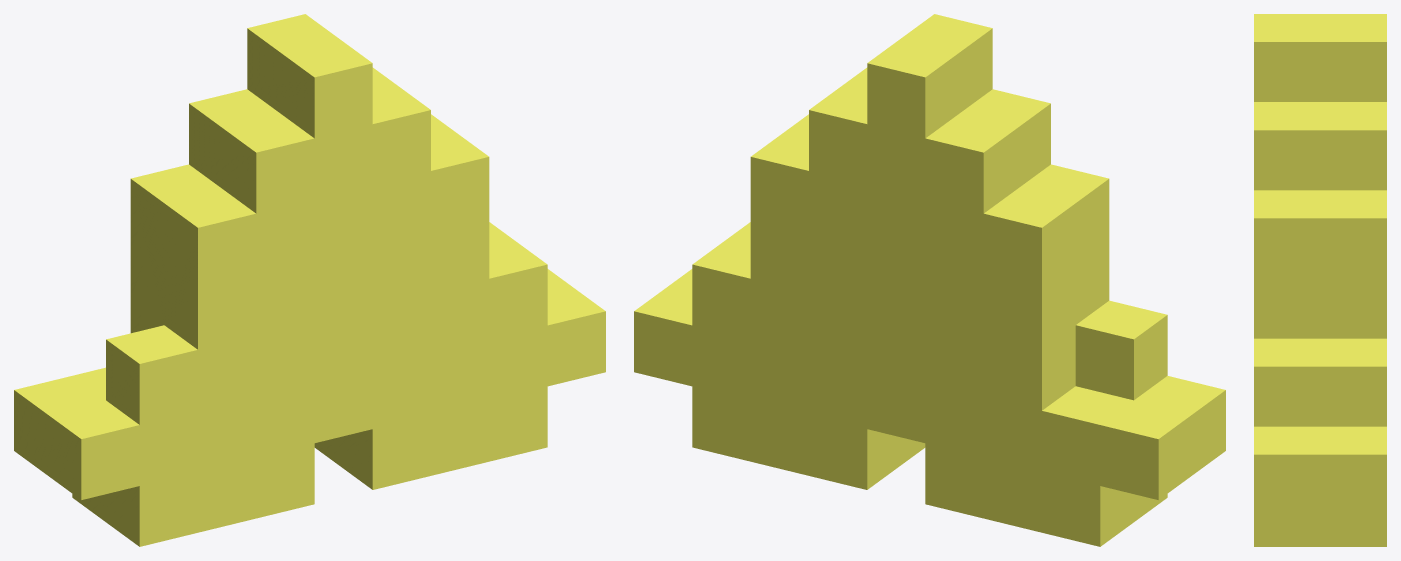
The model's file is pacmand8.fbx.
3 renders of one model, left to right at view 1: azimuth 30°, elevation 25°; view 2: azimuth 150°, elevation 25°; view 3: azimuth 270°, elevation 25°, orthographic.
Parts seen in each view (by area): view 1: pacmand8; view 2: pacmand8; view 3: pacmand8.
Boxes of the visible parts, x1,y1,x2,y2 form: pacmand8: (14, 14, 605, 546); pacmand8: (634, 14, 1225, 546); pacmand8: (1254, 14, 1386, 546).
Size of the model in its own units: 90 by 70 by 20.
